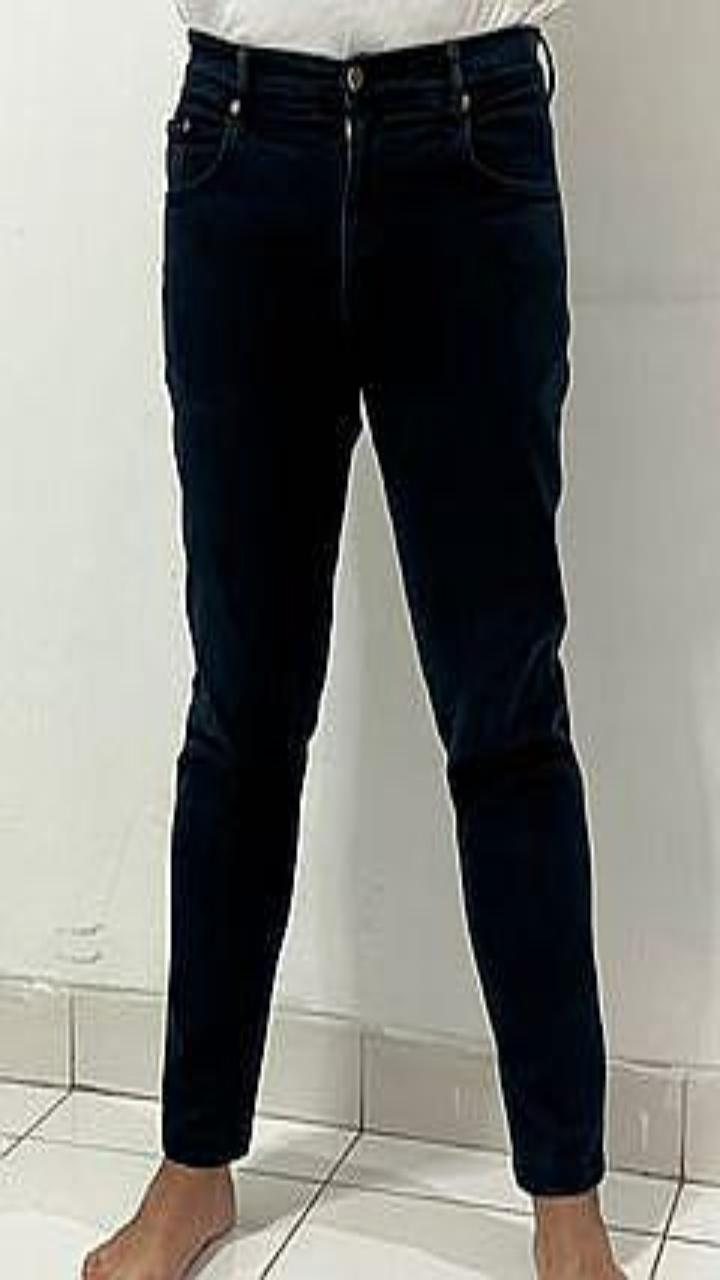Jeans: (162, 25, 605, 1193)
